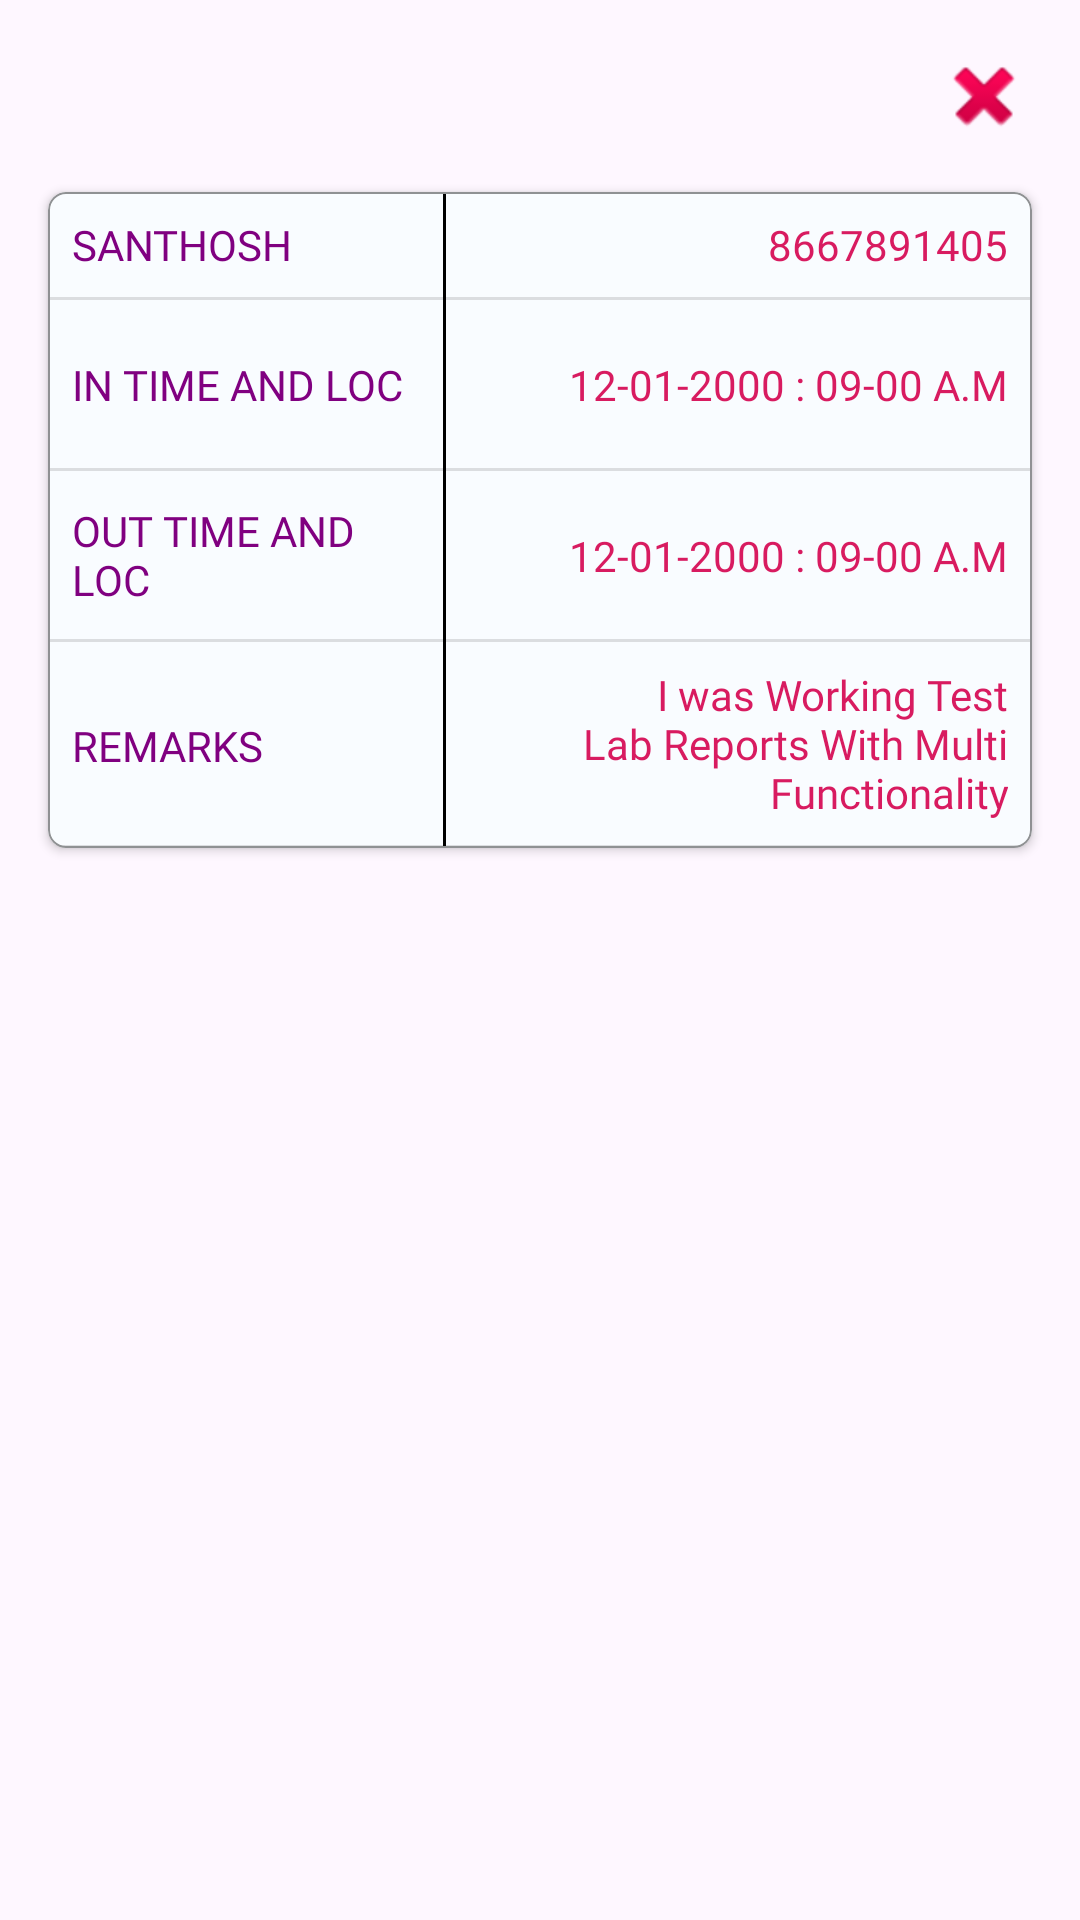

Point at icon controls on the screen. Image size 1080 x 1920, points as (x=x, y=y).
delete: (x=984, y=96)
